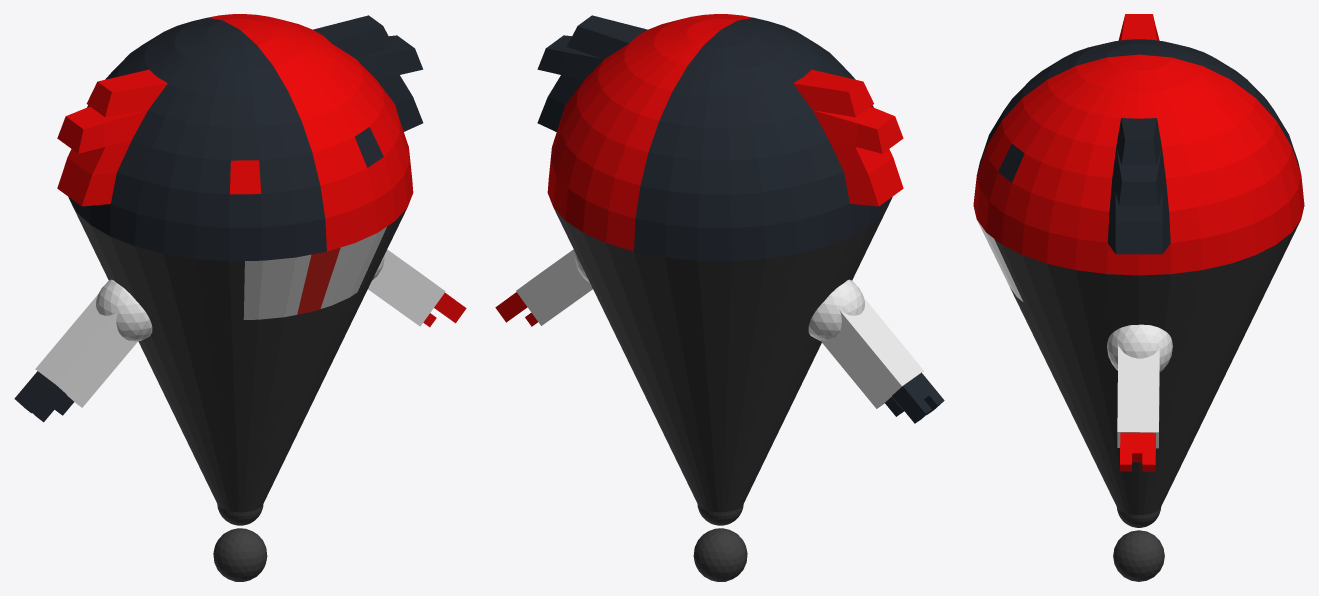
File: DimBot(Blinky).fbx
The picture shows the model from 3 angles, left to right: view 1: azimuth 30°, elevation 25°; view 2: azimuth 150°, elevation 25°; view 3: azimuth 270°, elevation 25°; orthographic projection. The views are drawn at different scales.
Visible parts, largest first — view 1: Cylinder.003; view 2: Cylinder.003; view 3: Cylinder.003.
Boxes of the visible parts, x1=… form: Cylinder.003: x1=14, y1=14, x2=466, y2=581; Cylinder.003: x1=495, y1=14, x2=944, y2=581; Cylinder.003: x1=973, y1=14, x2=1304, y2=581.
Bounding box in the file's own units: 474 × 576 × 329.
